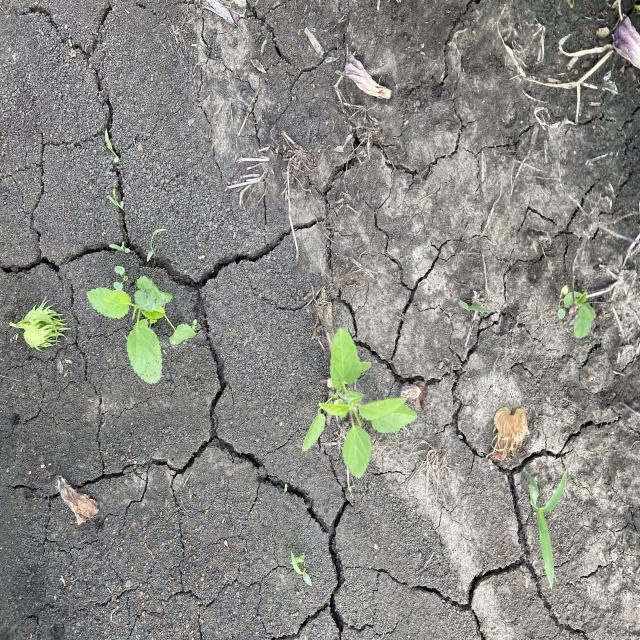PricklySida: (300, 326, 420, 481), (85, 274, 199, 388)
